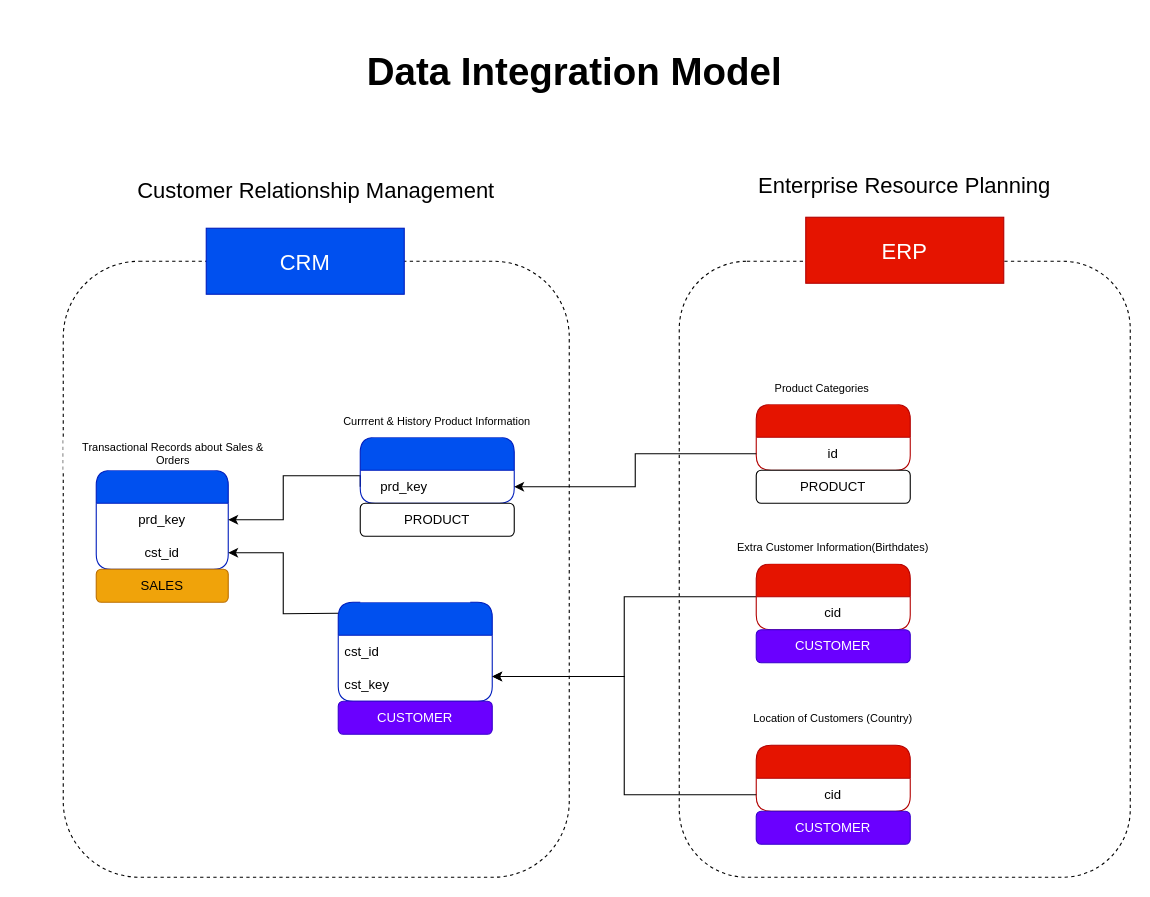
Image size: 1150x897. Some labels were removed from this diagram. The shapes that lost their labels are listed below. From the top down, each one's box as (x1, y1, x2, y2) in pixels, then its label:
(755, 403, 910, 470): erp_px_cat_g1v2
(359, 436, 514, 503): crm_prod_info
(95, 469, 228, 569): crm_sales_details
(360, 569, 470, 602): Customer Information
(755, 563, 910, 630): erp_cust_az12
(337, 601, 492, 701): crm_cust_info
(755, 744, 910, 811): erp_loc_a101
